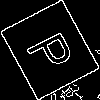P: (25, 24, 84, 76)
